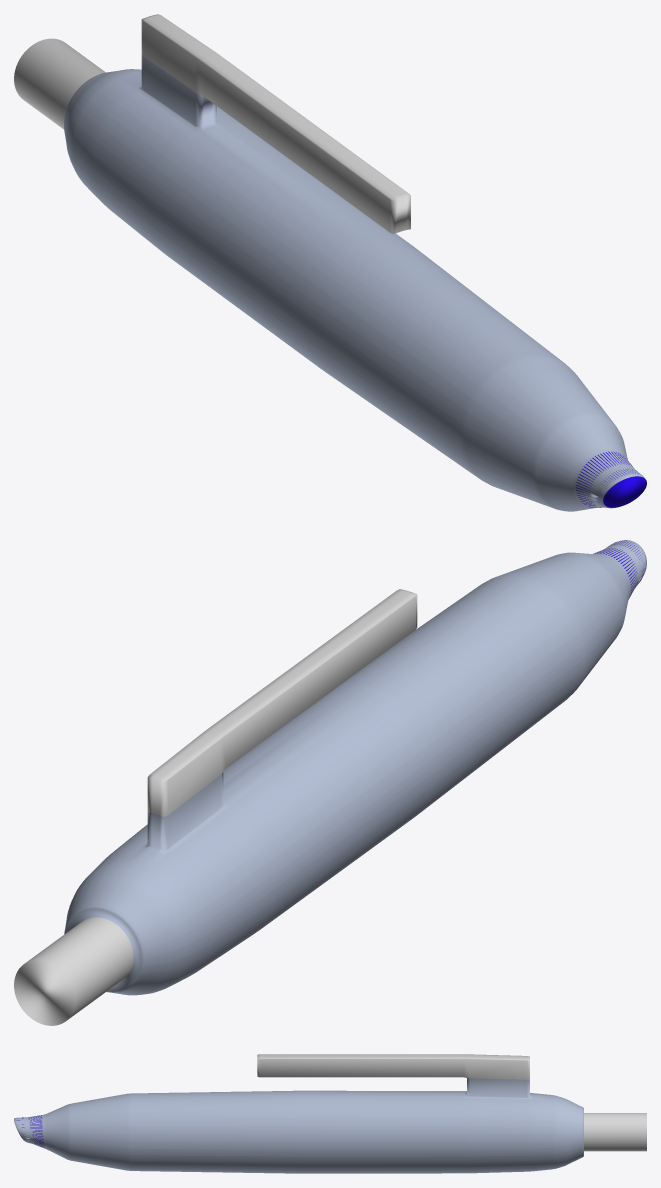
The model's file is pen_click.fbx.
3 renders of one model, top to bottom at view 1: azimuth 30°, elevation 25°; view 2: azimuth 150°, elevation 25°; view 3: azimuth 270°, elevation 25°, orthographic. The views are drawn at different scales.
Visible parts, largest first — view 1: Cylinder; view 2: Cylinder; view 3: Cylinder.
Boxes of the visible parts, x1=… form: Cylinder: x1=14, y1=14, x2=646, y2=511; Cylinder: x1=14, y1=540, x2=646, y2=1025; Cylinder: x1=14, y1=1054, x2=646, y2=1173.
Bounding box in the file's own units: 198 × 297 × 1509.
